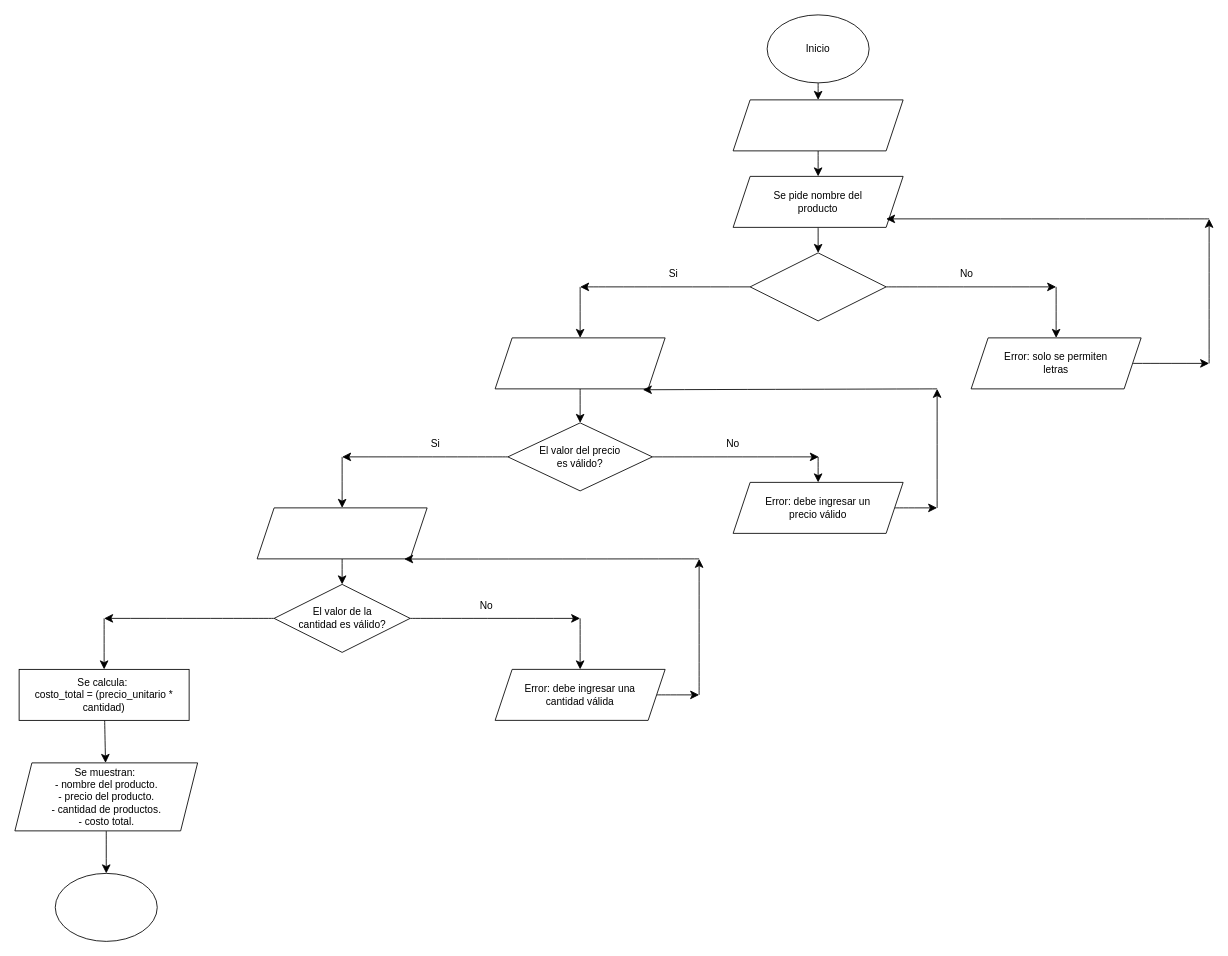
Image size: 1228x956. Some labels were removed from this diagram. The shapes that lost their labels are listed below. From the top down, each one's box as (x1, y1, x2, y2) in pixels, then its label:
(732, 99, 903, 151): Bienvenido al inventario
(749, 252, 886, 321): El nombre tiene solo letras?
(494, 337, 665, 389): Se pide el precio del producto
(256, 507, 427, 559): Se pide la cantidad de productos
(54, 873, 157, 941): Fin
